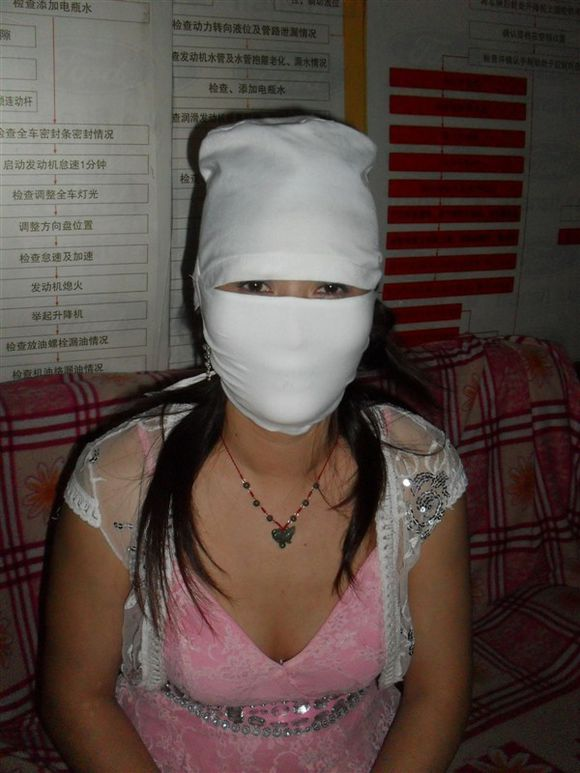face_mask: (208, 207, 365, 425)
